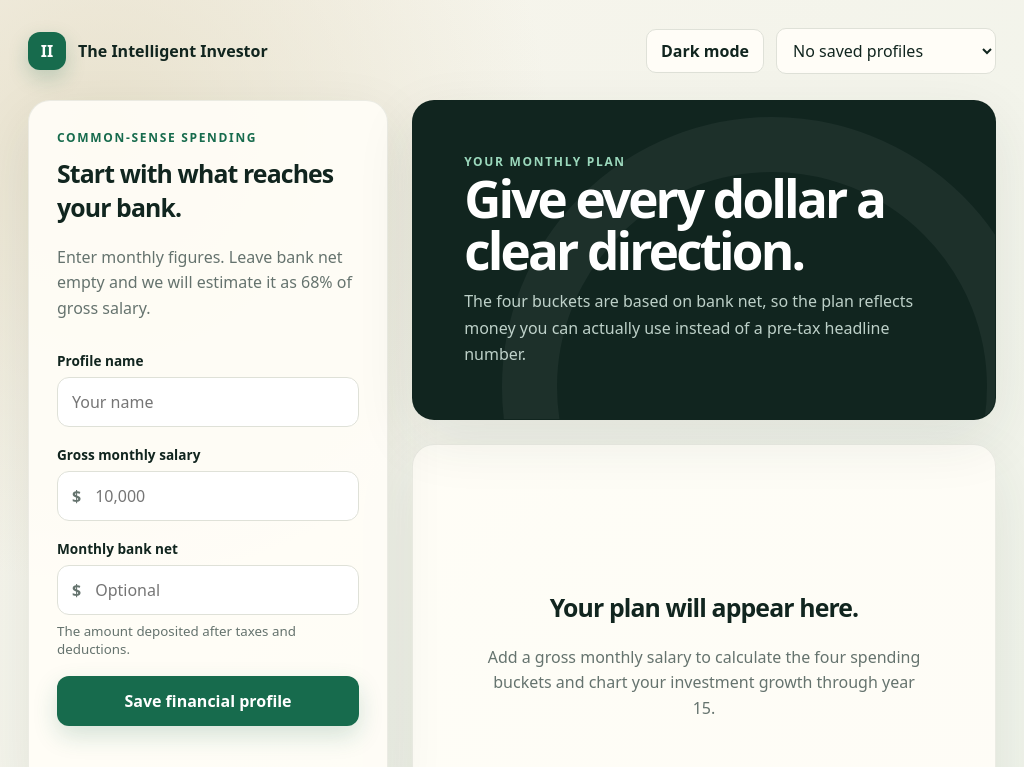
Test: Intelligent Investor flow › inputs salary, shows buckets, and renders the chart
This screenshot has width=1024, height=767.
Type "10000" into the number field with id "grossSalary" at (220, 496), box [81,472,358,520]
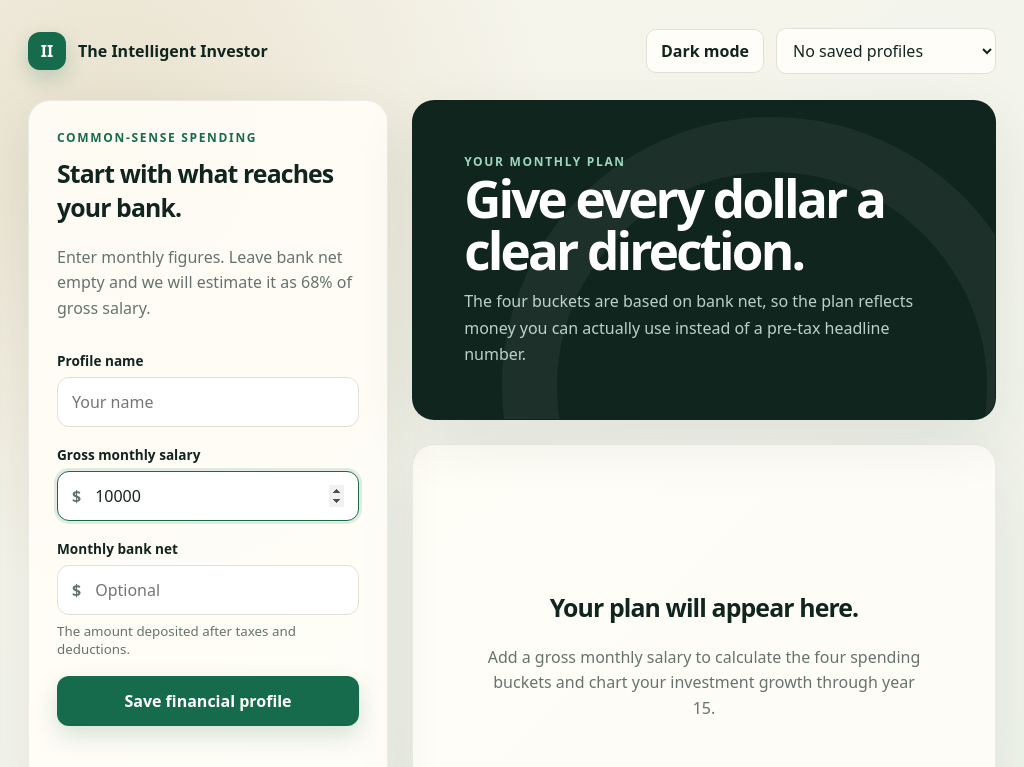
Type "8000" into the number field with id "bankNet" at (220, 590), box [81,566,358,614]
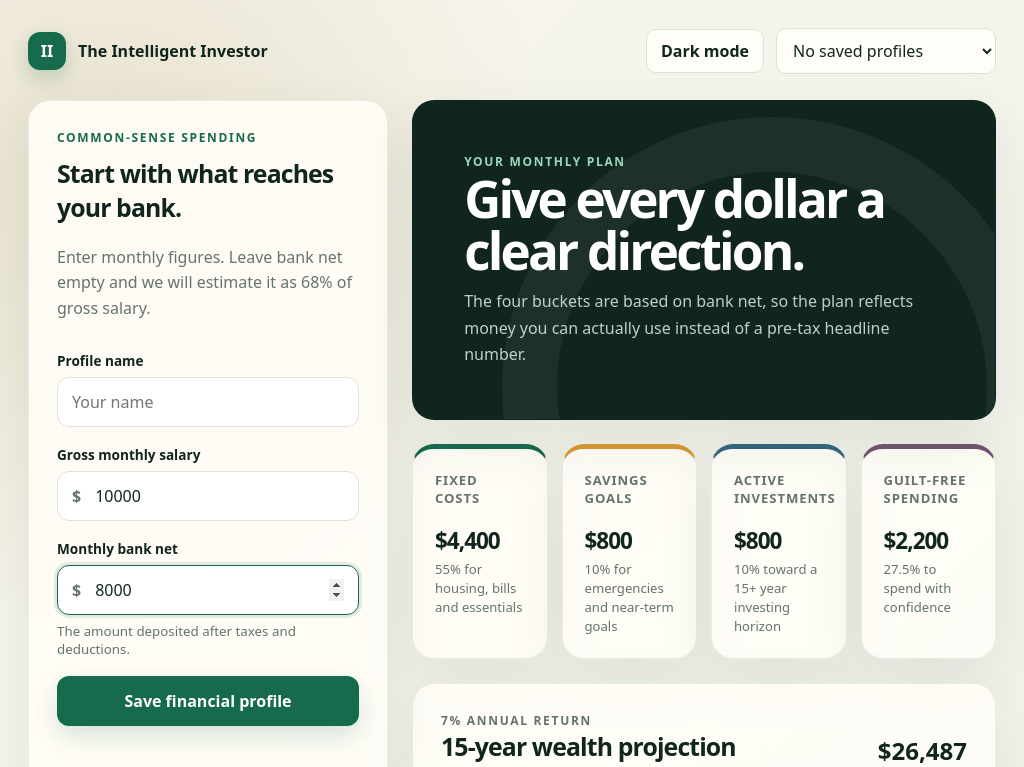
Expected: the text "$4,400" is shown, [435,525,500,556]
Expected: the text "$2,200" is shown, [884,525,948,556]
